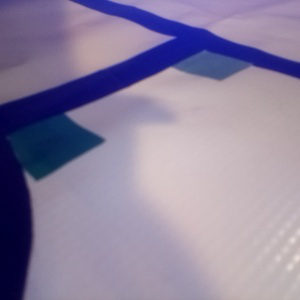bottom_right: (1, 104, 105, 180), (154, 47, 253, 80)
